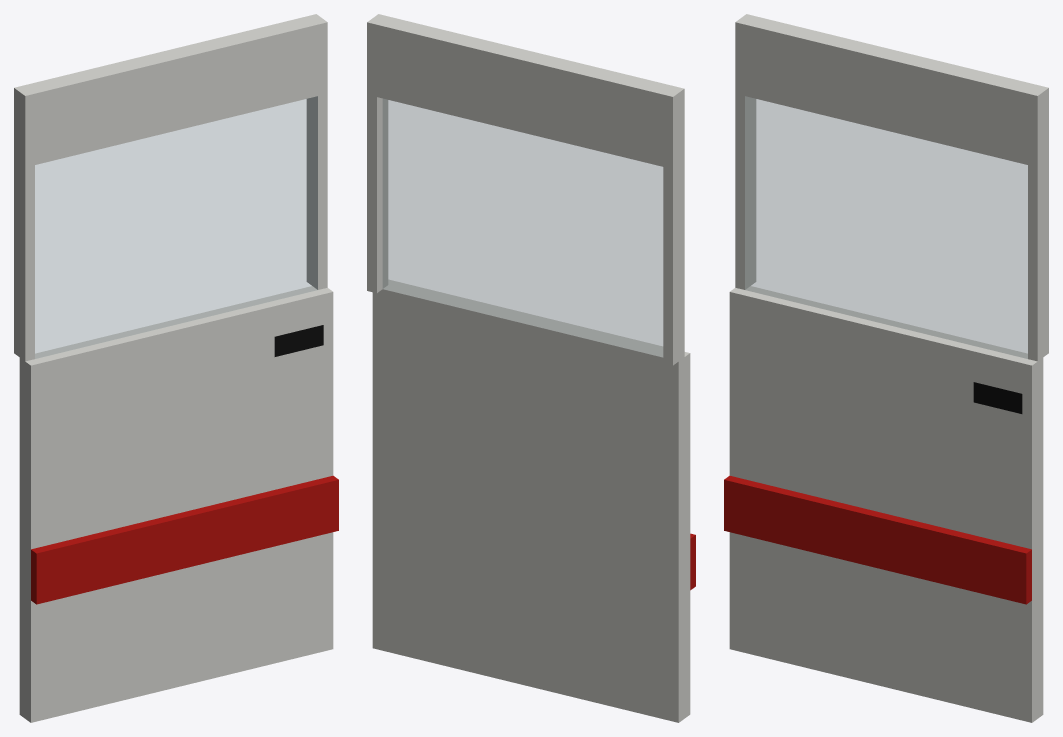
File: ambulance_side_door.glb
3 views of the same model, side by side, from view 1: azimuth 30°, elevation 25°; view 2: azimuth 150°, elevation 25°; view 3: azimuth 330°, elevation 25° (orthographic).
Parts seen in each view (by area): view 1: body:compound; view 2: body:compound; view 3: body:compound.
Boxes of the visible parts, left/top/right/bottom form: body:compound: left=14, top=14, right=338, bottom=722; body:compound: left=367, top=14, right=695, bottom=722; body:compound: left=724, top=14, right=1048, bottom=722.
Bounding box in the file's own units: 0.9688 × 1.91 × 0.125.
